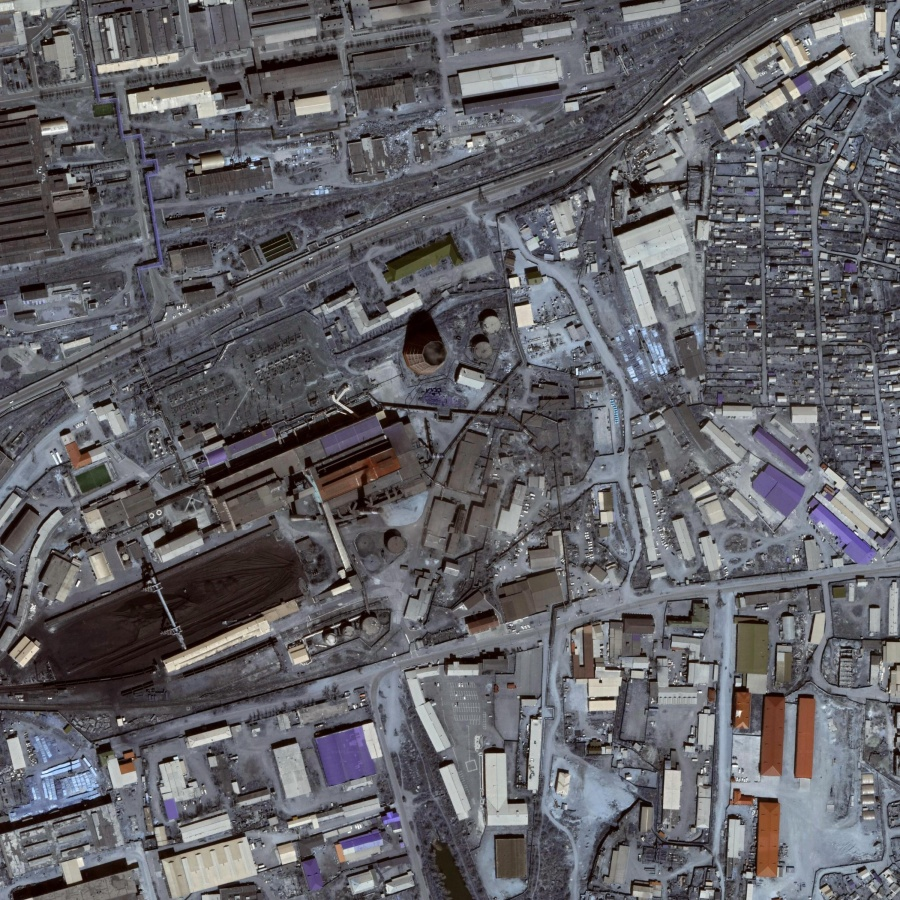PowerPlant: (29, 309, 510, 691)
